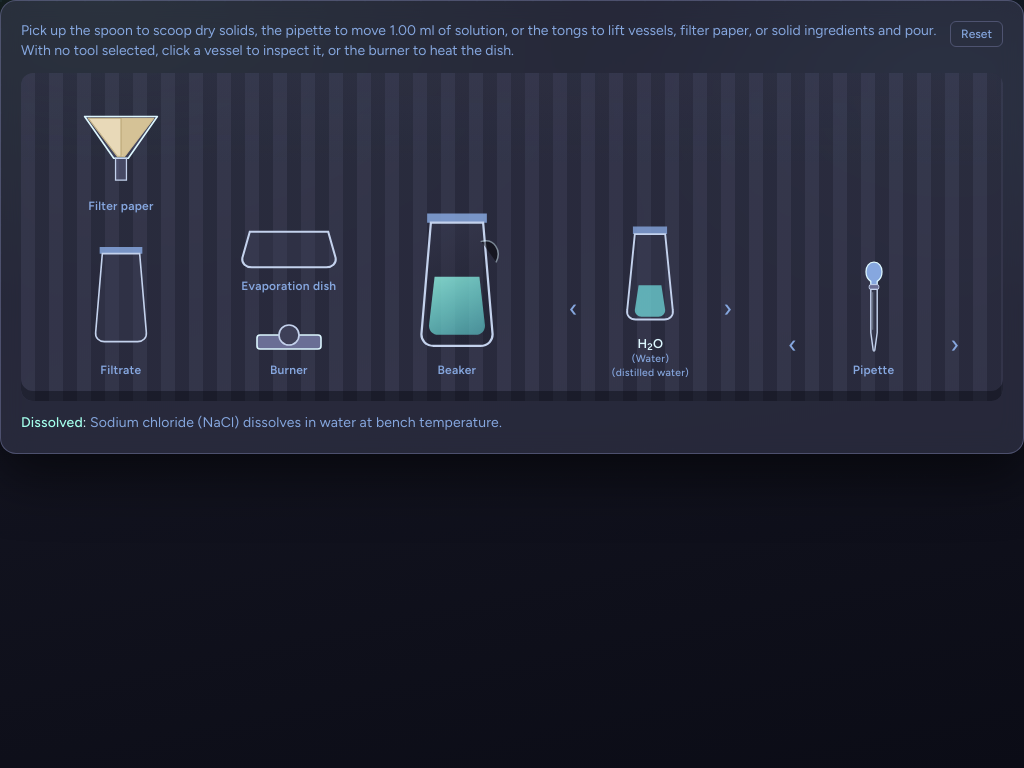
Test: LabBench inspect › idle inspect after dissolve shows aqueous ions from the server composition
Click the button "Beaker" at (457, 287), box 393,189 -> 521,385
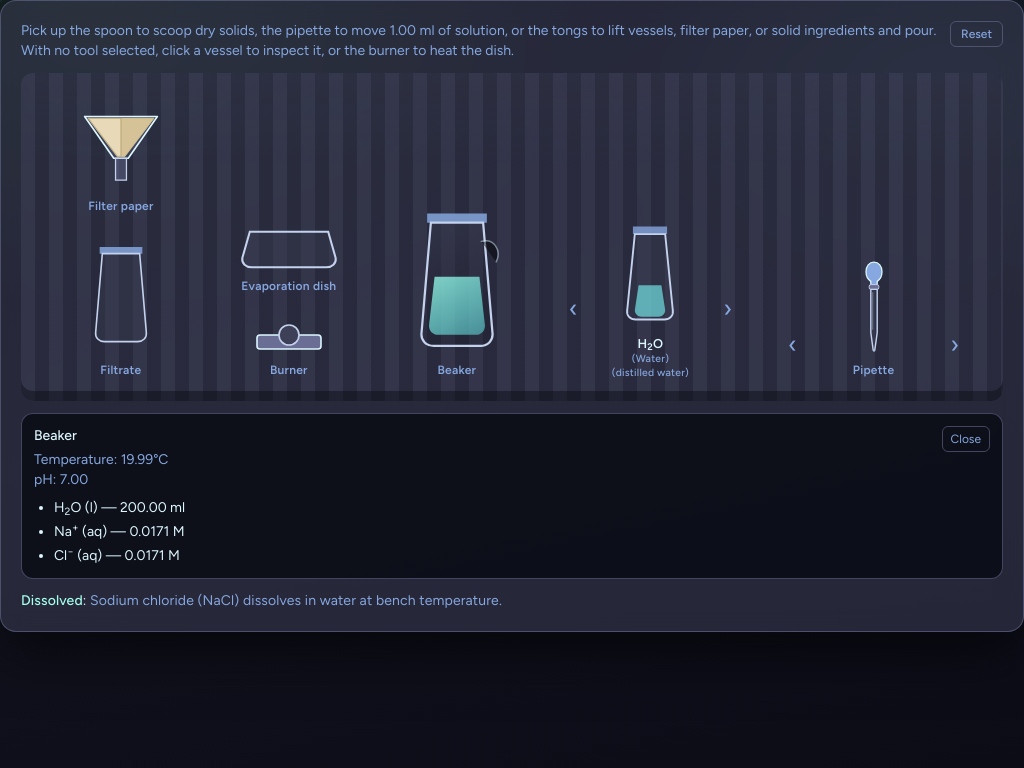
Check: the dialog named "Contents of Beaker" shows "H2O (l)", box 21,413 -> 1003,579
Check: the dialog named "Contents of Beaker" shows "Na+ (aq)", box 21,413 -> 1003,579
Check: the dialog named "Contents of Beaker" shows "Cl− (aq)", box 21,413 -> 1003,579
